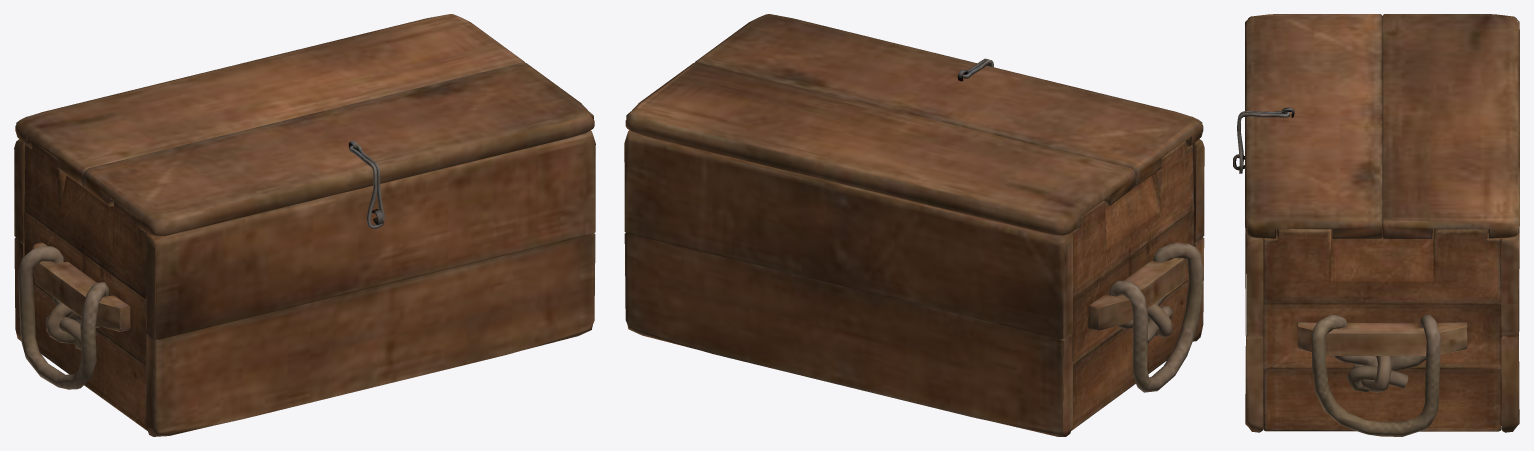
File: crate_a.glb
3 views of the same model, side by side, from view 1: azimuth 30°, elevation 25°; view 2: azimuth 150°, elevation 25°; view 3: azimuth 270°, elevation 25° (orthographic). The views are drawn at different scales.
Parts seen in each view (by area): view 1: crate_a; view 2: crate_a; view 3: crate_a.
Boxes of the visible parts, left/top/right/bottom form: crate_a: left=14, top=14, right=595, bottom=436; crate_a: left=624, top=14, right=1204, bottom=436; crate_a: left=1233, top=14, right=1519, bottom=436.
Size of the model in its own units: 1.42 by 0.6 by 0.7015.
1 material, 1 textured.
